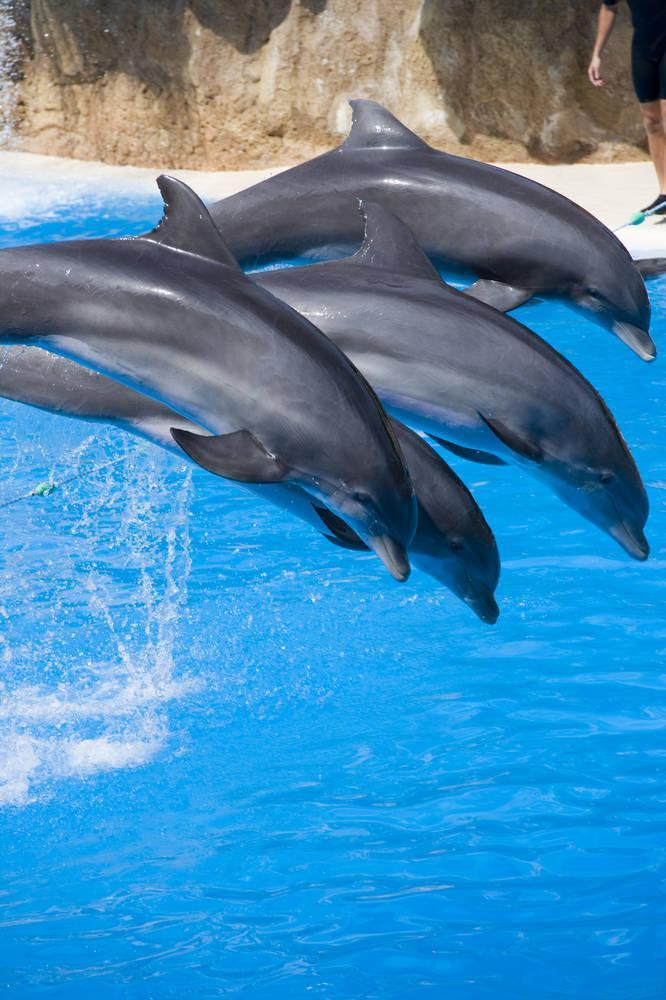fish: (1, 174, 414, 593), (1, 339, 517, 637), (238, 197, 653, 567), (172, 96, 657, 364)
